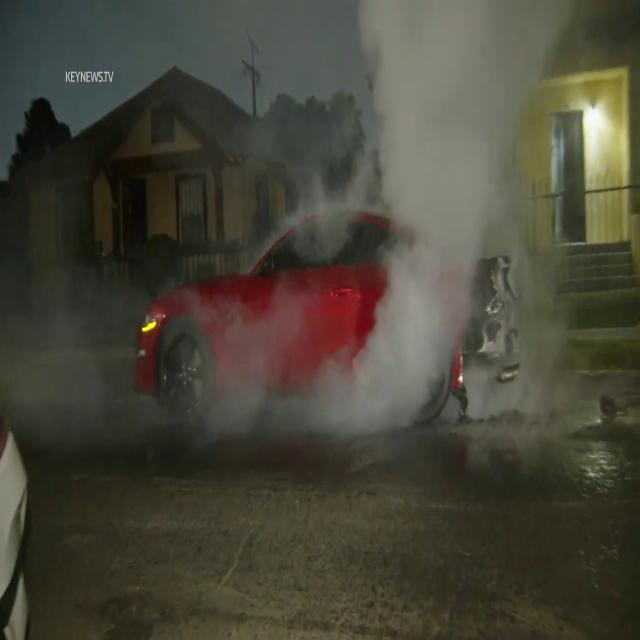Smoke: (314, 0, 602, 458)
